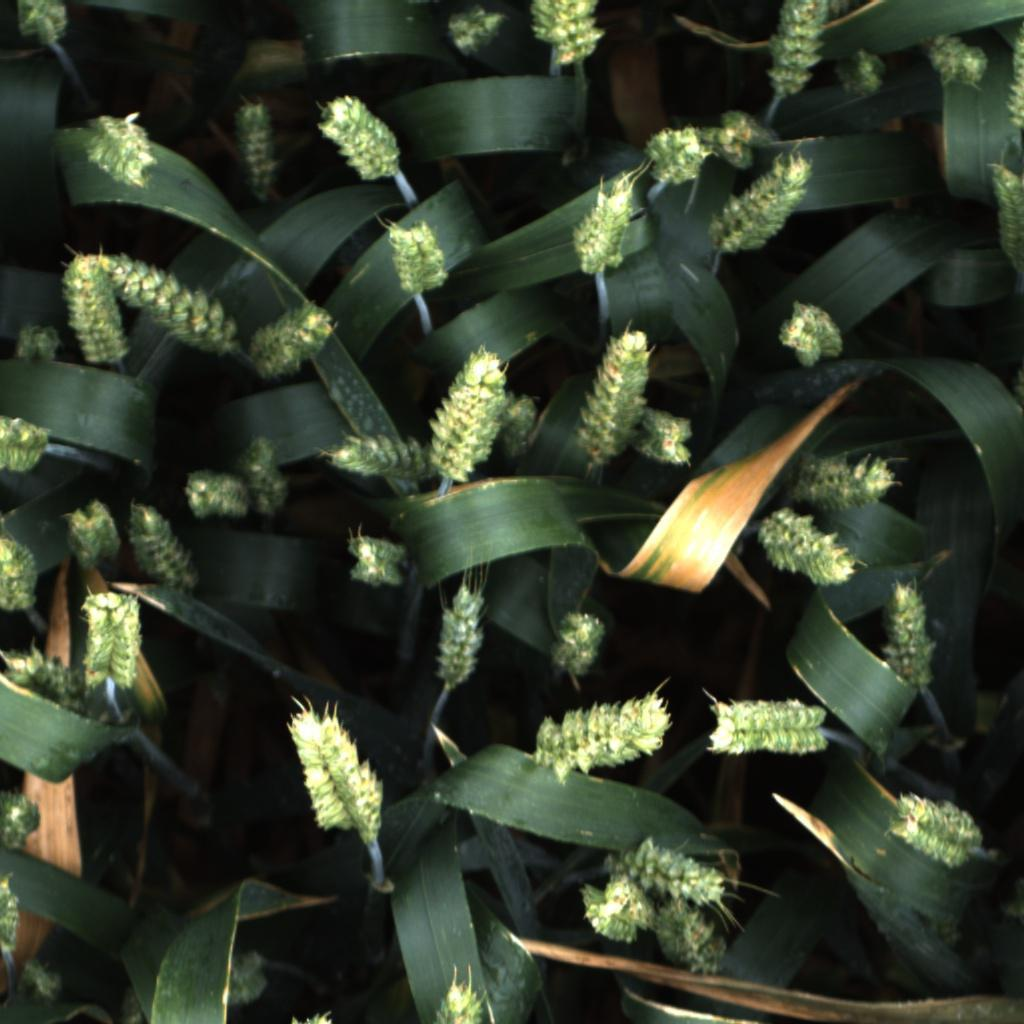0-0: (114, 236, 235, 356), (282, 703, 391, 835), (530, 693, 678, 781), (706, 158, 819, 256), (430, 342, 507, 484), (578, 322, 650, 465), (705, 688, 832, 766), (597, 832, 726, 908), (752, 505, 860, 592), (883, 785, 987, 874), (315, 90, 404, 186), (60, 250, 131, 370), (564, 178, 643, 281), (429, 575, 497, 694), (73, 585, 146, 692), (125, 501, 199, 601), (784, 453, 901, 515), (762, 0, 830, 106), (251, 300, 333, 382), (880, 575, 939, 686), (227, 95, 286, 205), (771, 295, 853, 373), (329, 429, 438, 487), (651, 902, 732, 978), (83, 110, 159, 190), (0, 640, 83, 713), (575, 875, 655, 947), (643, 119, 714, 192), (384, 221, 451, 298), (59, 493, 123, 573), (236, 433, 295, 519), (339, 527, 412, 595), (704, 103, 777, 171), (544, 609, 611, 682), (921, 30, 994, 94), (984, 157, 1024, 273), (633, 406, 702, 469), (179, 465, 252, 524), (547, 0, 608, 68), (496, 386, 546, 465), (828, 46, 895, 103), (447, 2, 510, 62), (0, 404, 51, 477), (419, 971, 488, 1024), (6, 1, 75, 51), (8, 313, 66, 372), (526, 0, 600, 46), (0, 533, 42, 612), (0, 785, 45, 851), (16, 958, 65, 1008), (230, 946, 268, 1006), (1006, 18, 1024, 139), (925, 913, 968, 954), (0, 874, 21, 957), (119, 981, 147, 1023), (824, 0, 864, 19), (1011, 365, 1024, 409)
